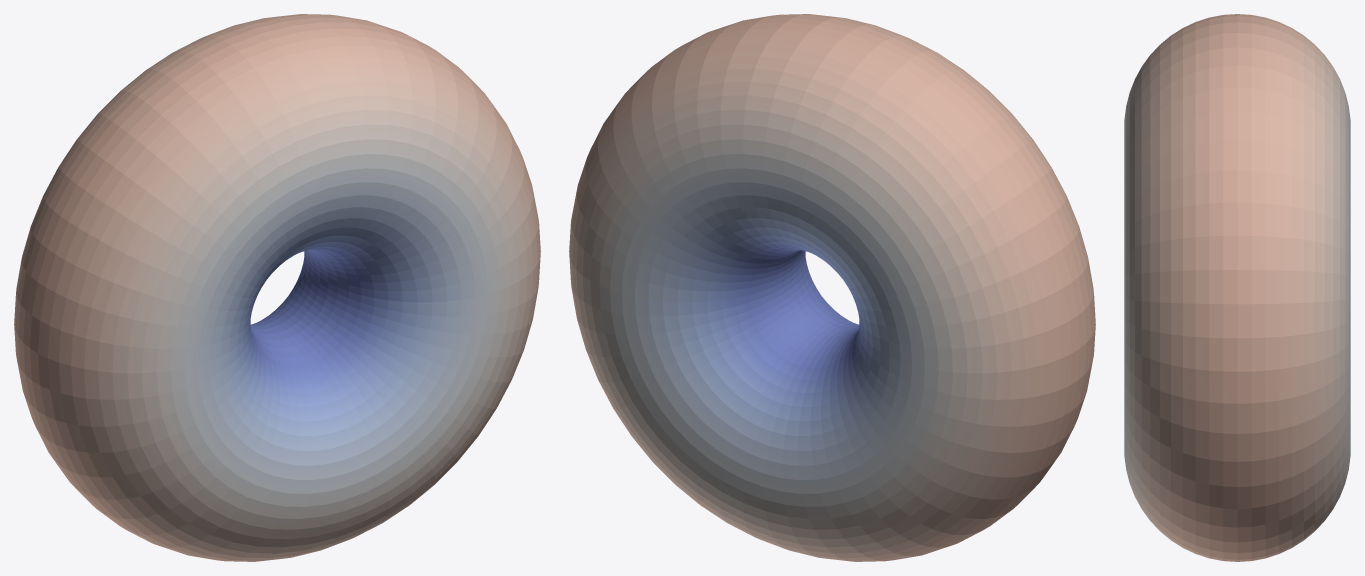
3 views of the same model, side by side, from view 1: azimuth 30°, elevation 25°; view 2: azimuth 150°, elevation 25°; view 3: azimuth 270°, elevation 25° (orthographic). The views are drawn at different scales.
Visible parts, largest first — view 1: world; view 2: world; view 3: world.
Part boxes in pixels (<box>): world: <box>14,14,540,561</box>; world: <box>569,14,1095,561</box>; world: <box>1124,14,1350,561</box>.
Bounding box in the file's own units: 21.6 × 21.56 × 8.92.
